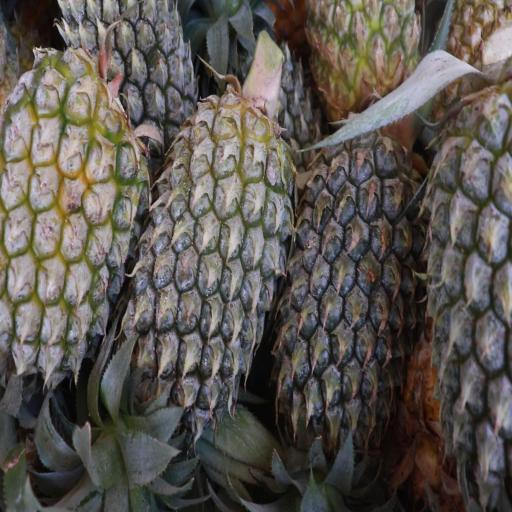------------------------------: (0, 62, 138, 363), (309, 0, 417, 128)
